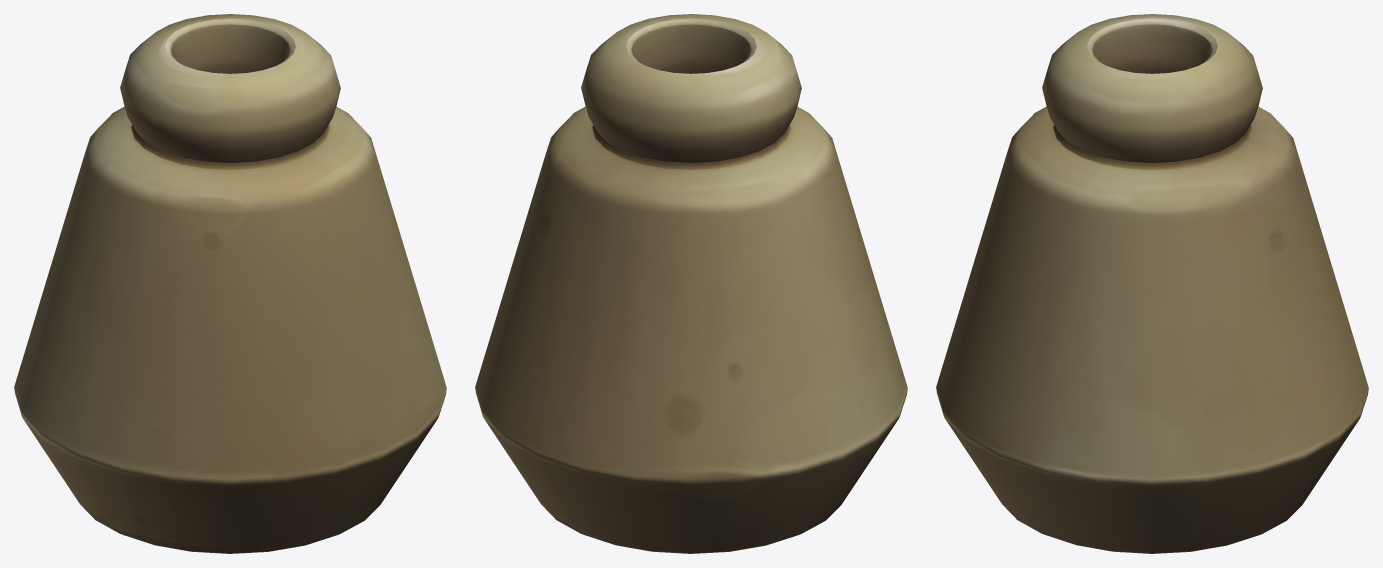
The model's file is jug_02.fbx.
3 views of the same model, side by side, from view 1: azimuth 30°, elevation 25°; view 2: azimuth 150°, elevation 25°; view 3: azimuth 270°, elevation 25° (orthographic).
Parts seen in each view (by area): view 1: wh_jug_02; view 2: wh_jug_02; view 3: wh_jug_02.
Boxes of the visible parts, x1=… form: wh_jug_02: x1=14, y1=14, x2=446, y2=553; wh_jug_02: x1=475, y1=14, x2=907, y2=553; wh_jug_02: x1=936, y1=14, x2=1368, y2=553.
Size of the model in its own units: 0.8551 by 0.9686 by 0.8551.
